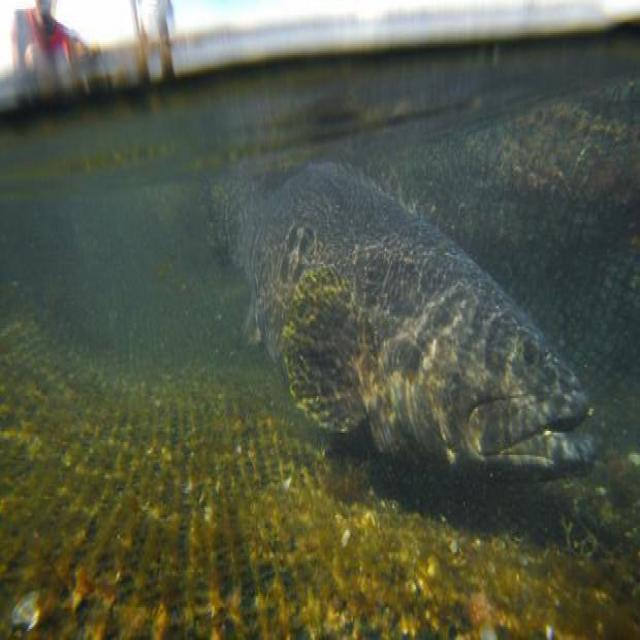grouper: (202, 133, 603, 492)
